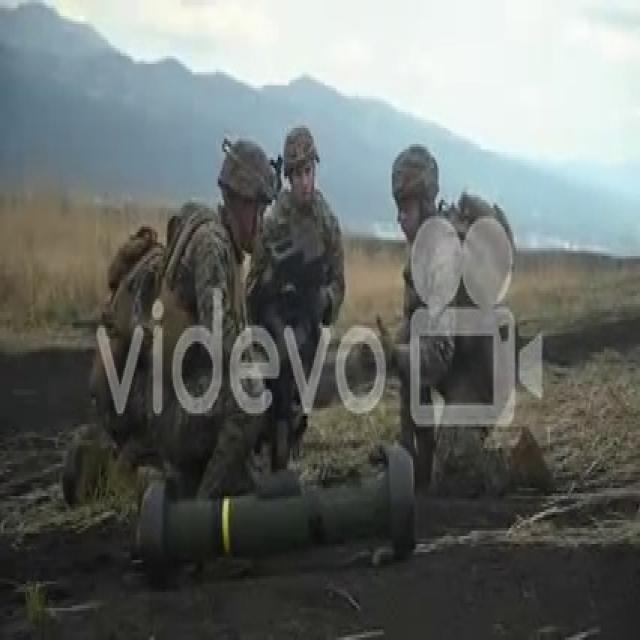bazooka: (131, 443, 426, 575)
